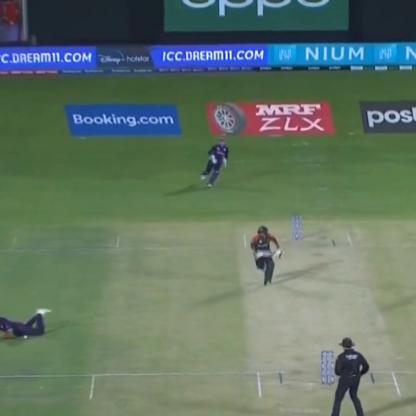pitch: (228, 223, 416, 416)
